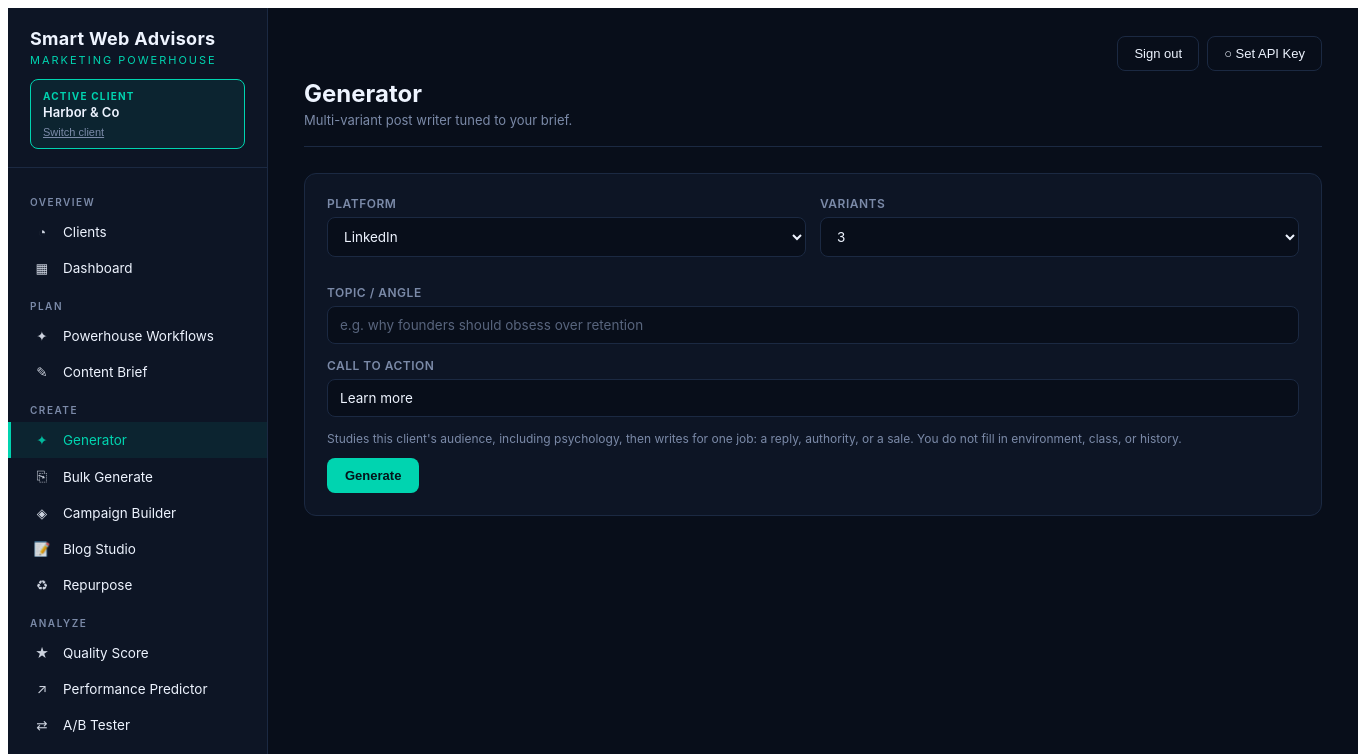
Test: keeps a draft that already scores 75 or higher
This screenshot has width=1366, height=754.
Click the button "Generate": (373, 476) top-left (327, 458), bottom-right (419, 493)
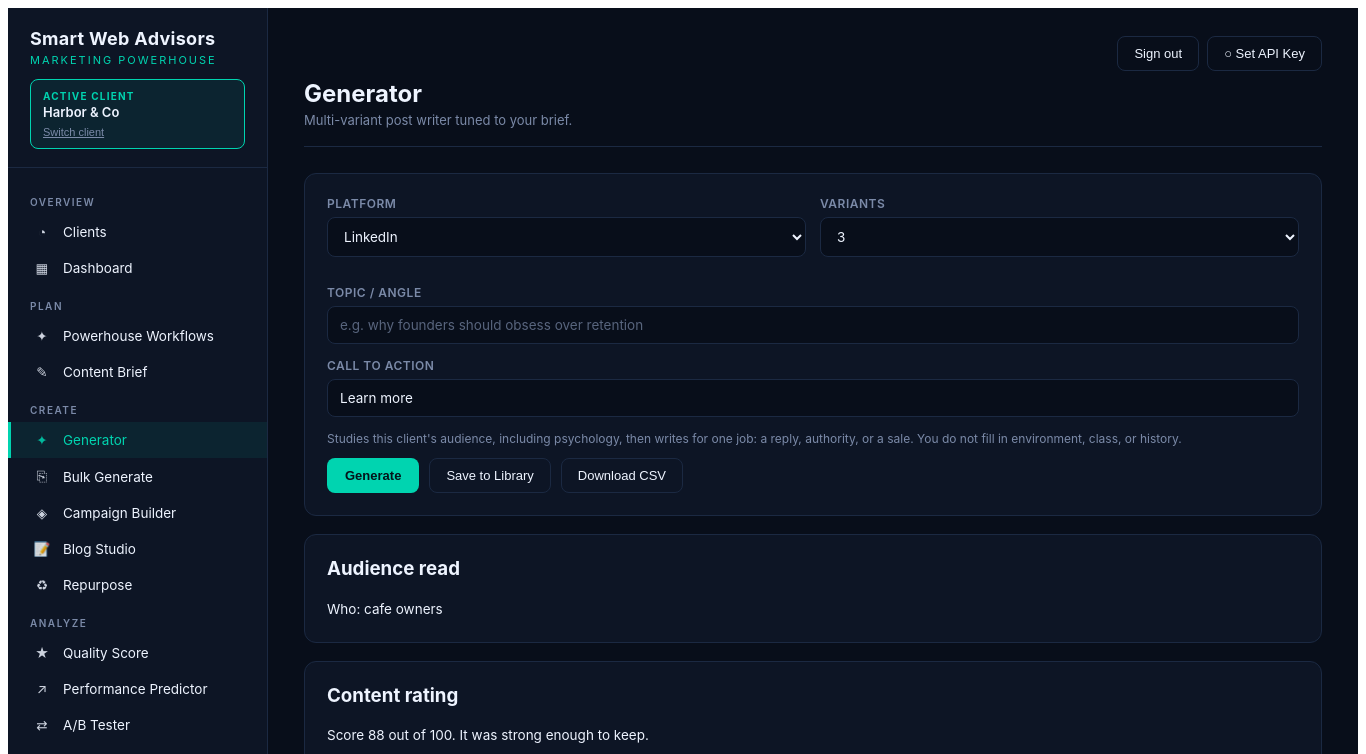
Now the text "Score 88 out of 100. It was strong enough to keep." is shown, box top-left (327, 727), bottom-right (649, 743)
